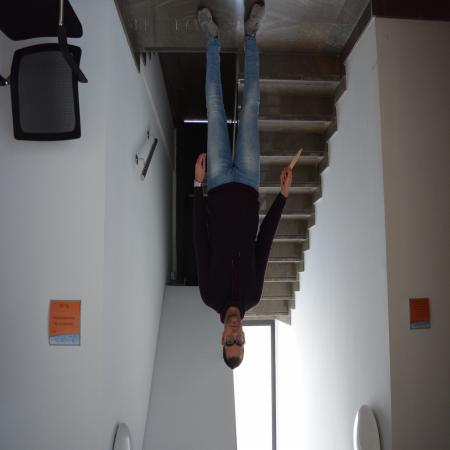long weapon: (284, 146, 304, 180)
